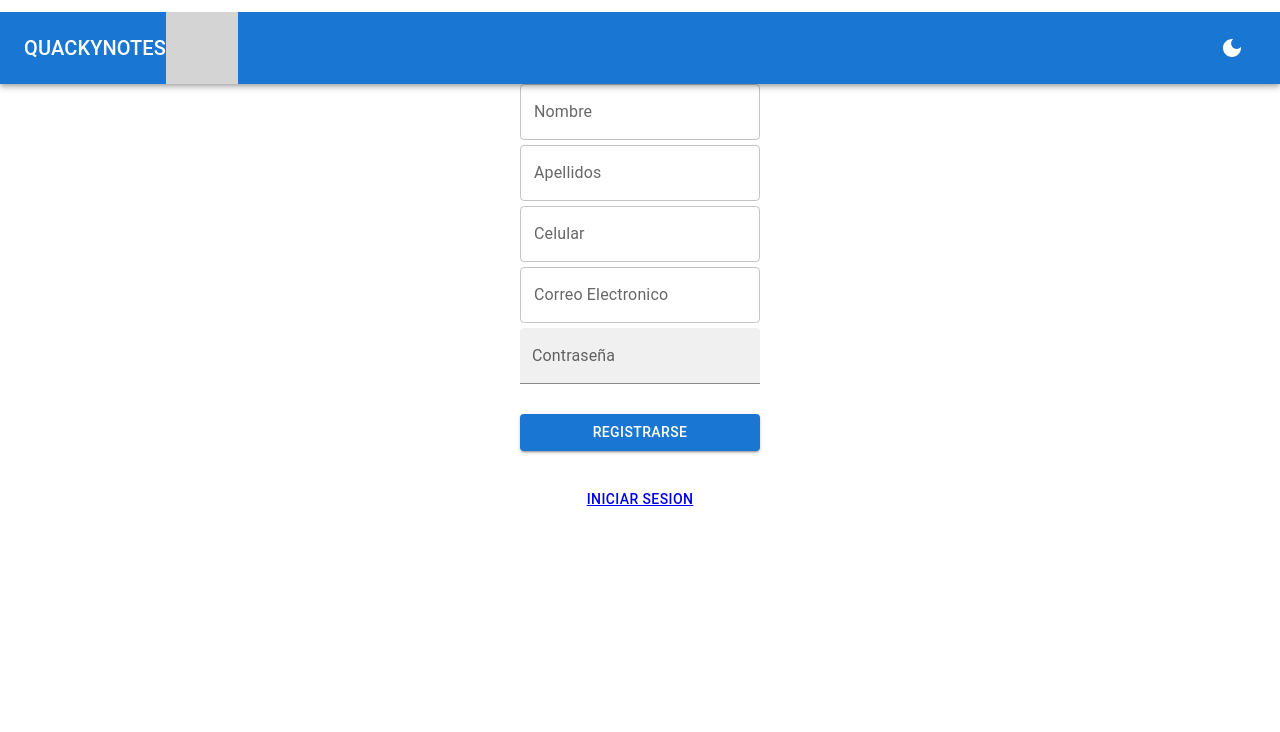
Test: Register component › should display an error message for empty name
Type "Doe" into the field labelled "Apellidos". click: (640, 173)
box: top-left (520, 145), bottom-right (760, 201)
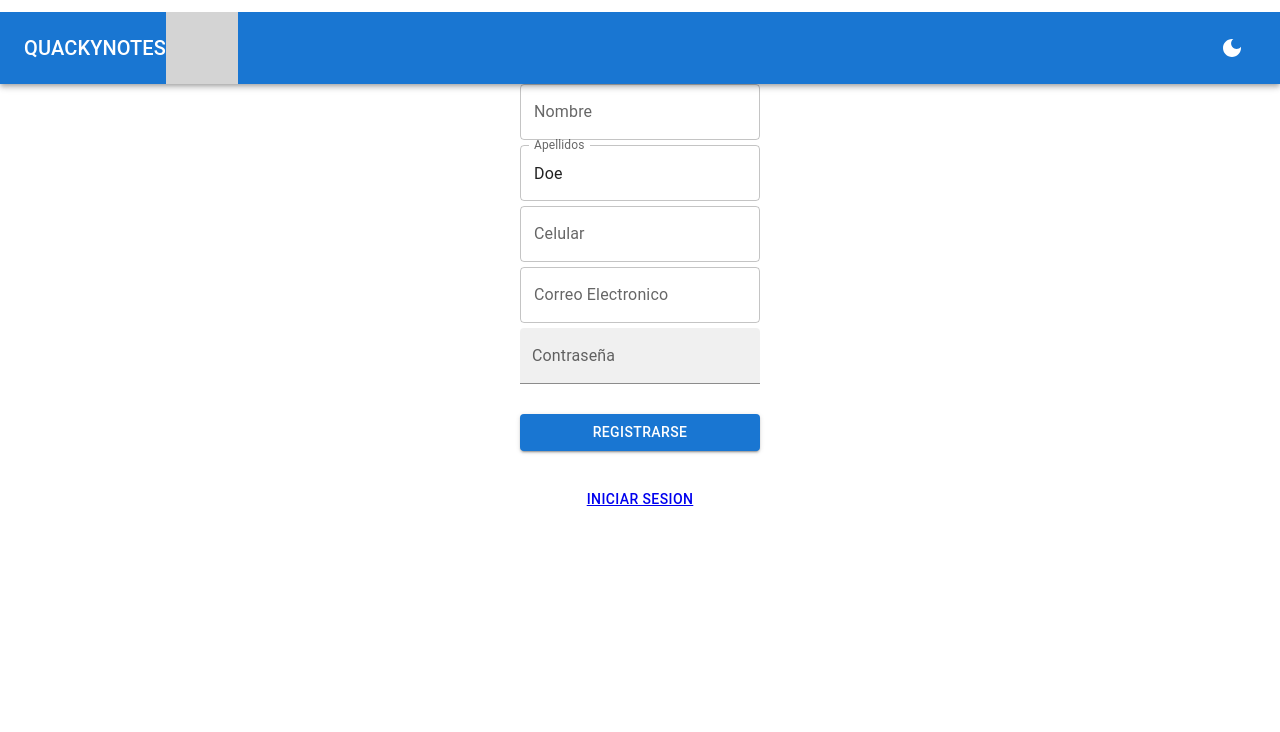
Type "1234567890" into the field labelled "Celular". click: (640, 234)
box: top-left (520, 206), bottom-right (760, 262)
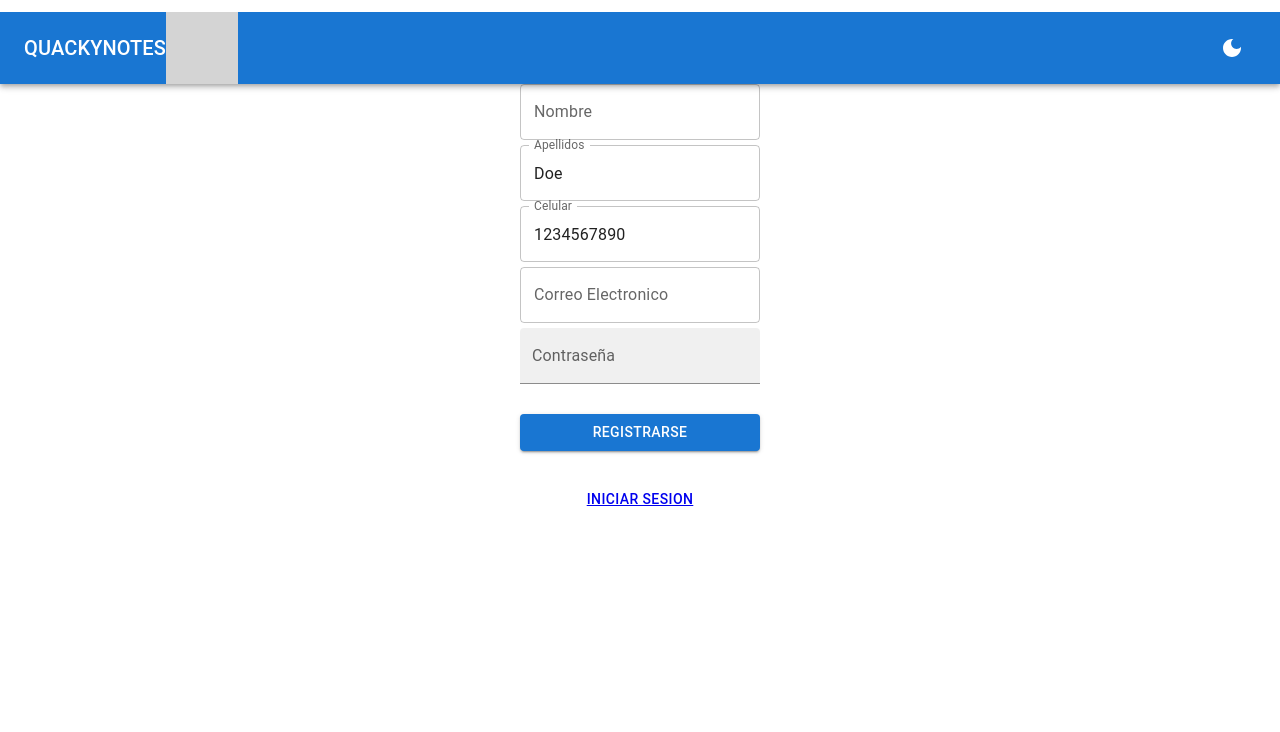
Type "email@example.com" into the field labelled "Correo Electronico". click: (640, 295)
box: top-left (520, 267), bottom-right (760, 323)
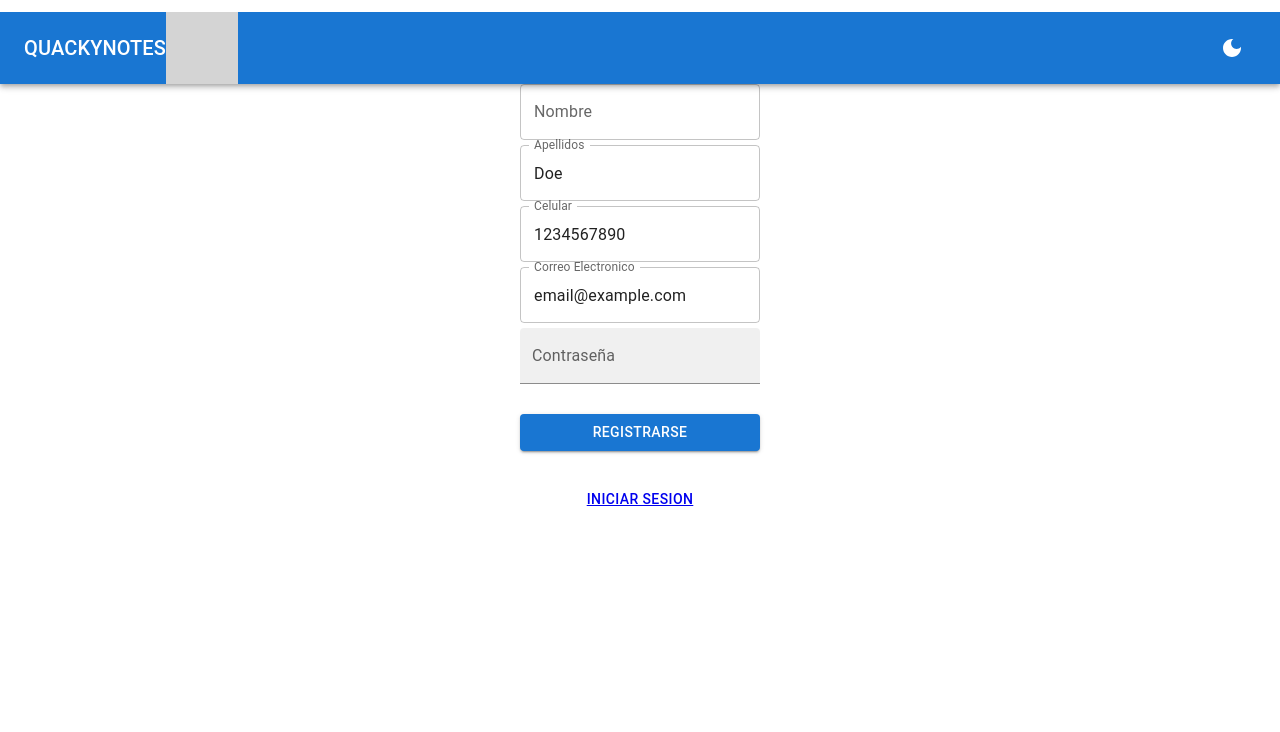
Type "Password123!" into the password field labelled "Contraseña". click: (640, 356)
box: top-left (520, 328), bottom-right (760, 384)
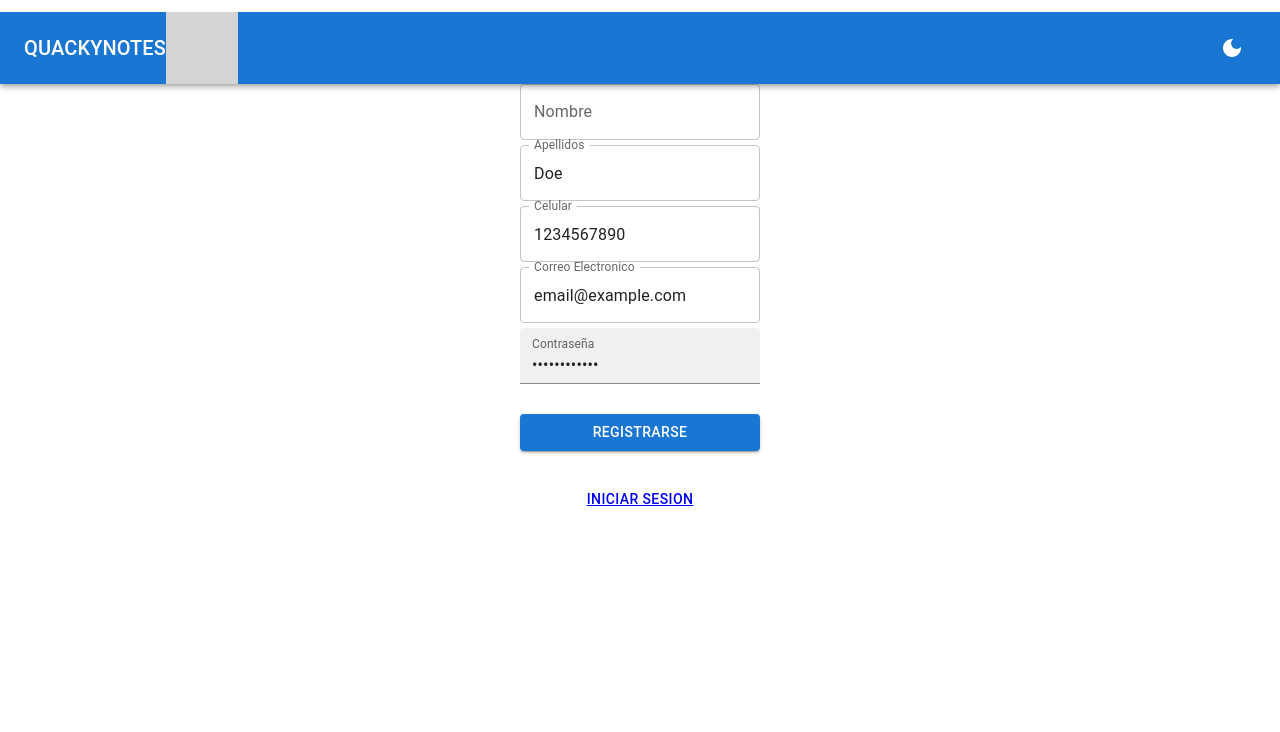
Click the button "REGISTRARSE". click: (640, 432)
box: top-left (520, 414), bottom-right (760, 450)
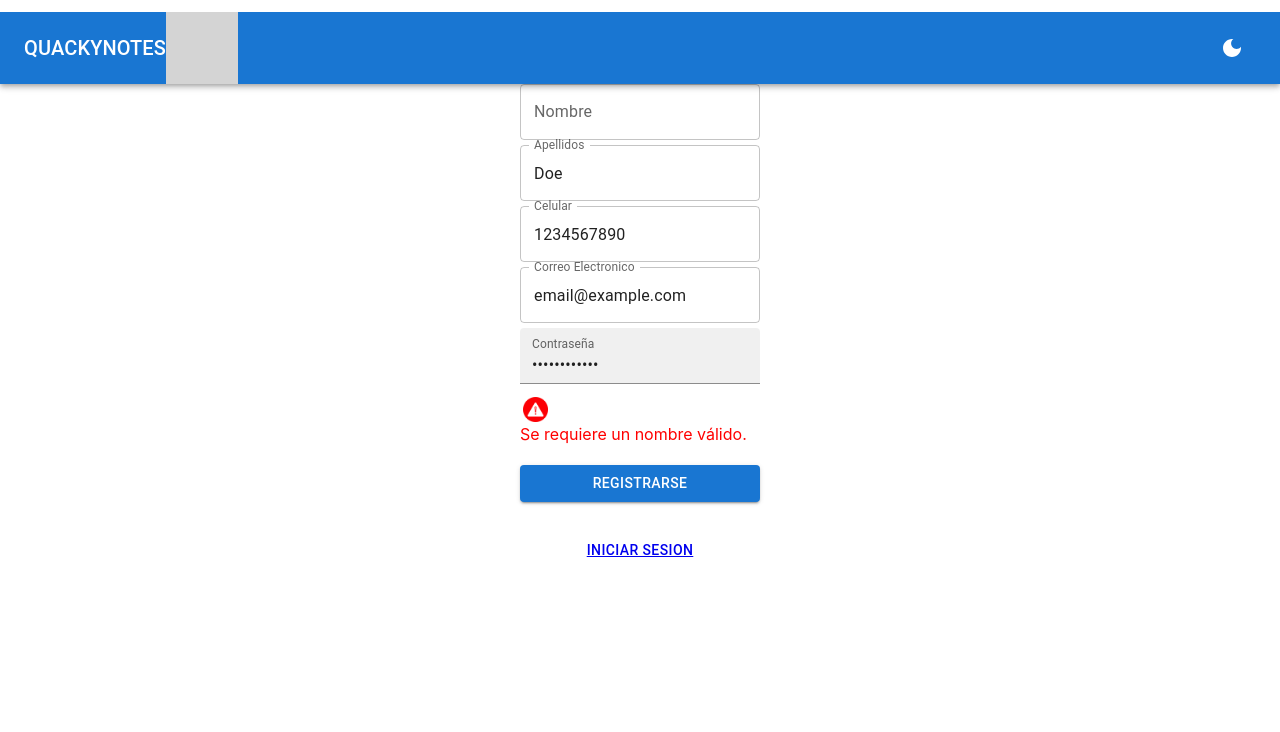
Expected: the text "Se requiere un nombre válido." is shown, top-left (520, 424), bottom-right (760, 444)
